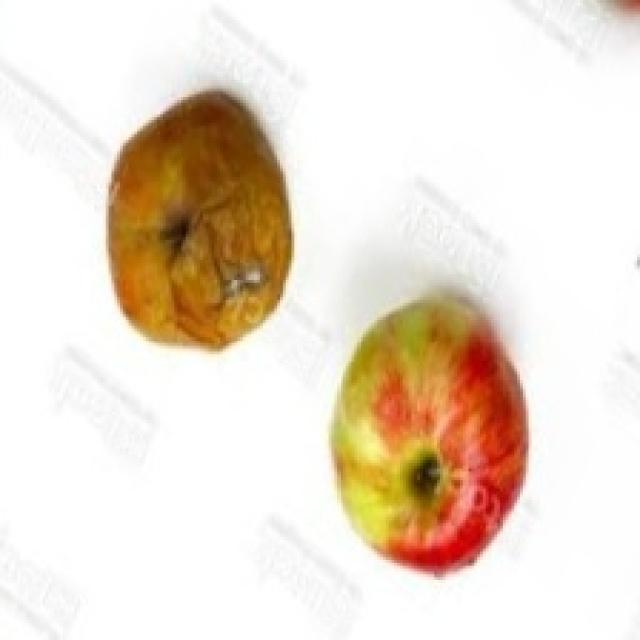100-_ripeness: (330, 299, 534, 579)
rotten_apple: (113, 96, 291, 343)
